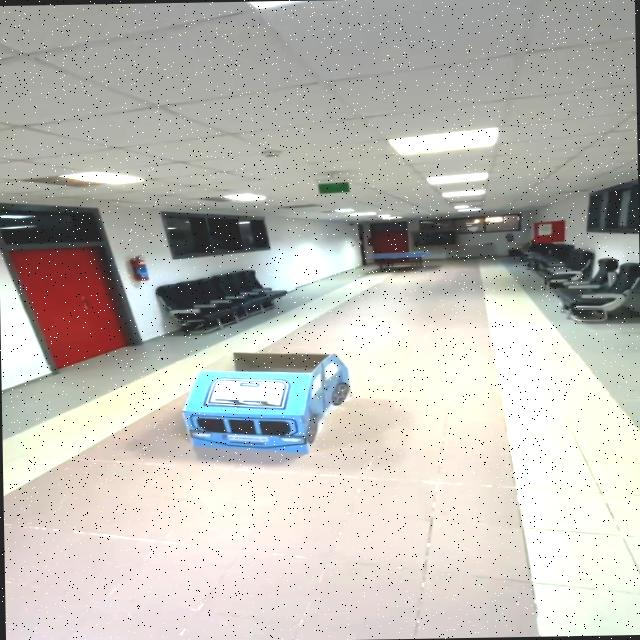blue_car: (168, 332, 363, 478)
